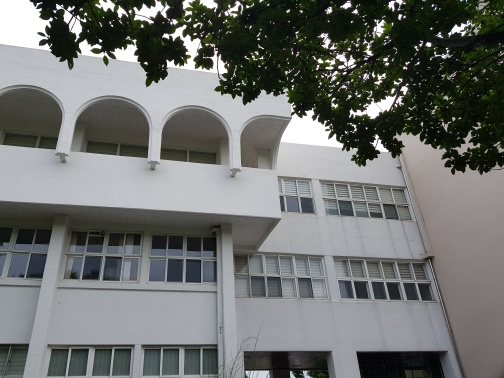Main Building of University: (9, 44, 468, 375), (65, 89, 238, 181)
